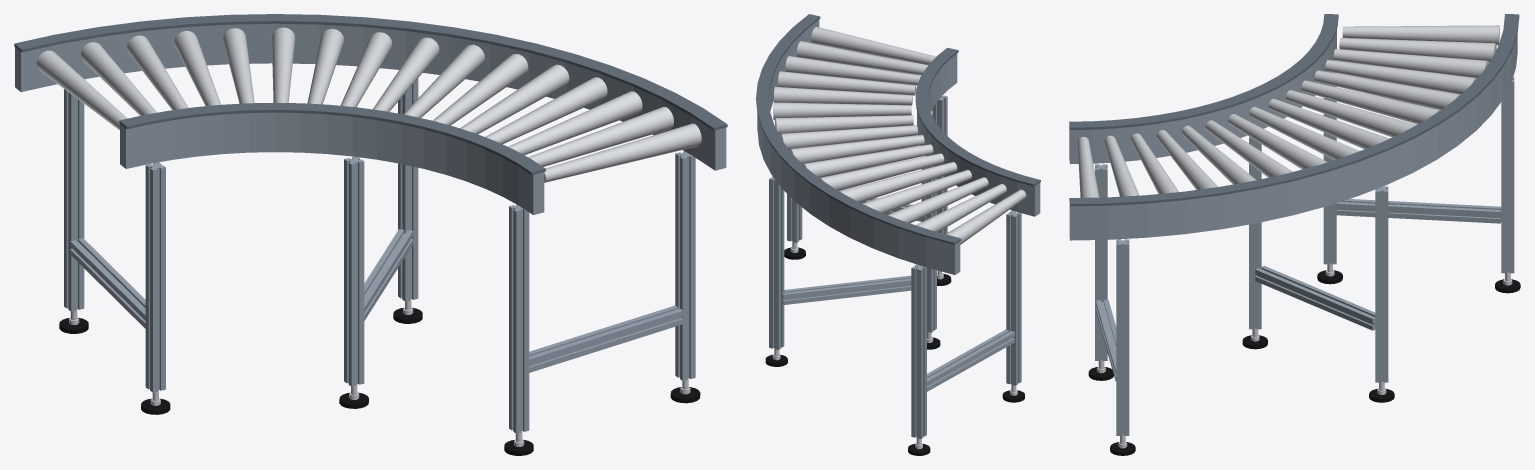
File: roller_curve_90.glb
3 views of the same model, side by side, from view 1: azimuth 30°, elevation 25°; view 2: azimuth 150°, elevation 25°; view 3: azimuth 270°, elevation 25° (orthographic). The views are drawn at different scales.
Visible parts, largest first — view 1: Conveyor_Frame_alu_anodised, Conveyor_Frame_alu_dark, Roller_16_steel_bright, Roller_15_steel_bright, Roller_14_steel_bright, Roller_13_steel_bright, Roller_12_steel_bright, Conveyor_Frame_rubber, Roller_11_steel_bright, Roller_01_steel_bright, Roller_10_steel_bright, Roller_02_steel_bright (+8 smaller); view 2: Conveyor_Frame_alu_anodised, Conveyor_Frame_alu_dark, Roller_10_steel_bright, Roller_13_steel_bright, Roller_11_steel_bright, Roller_12_steel_bright, Roller_14_steel_bright, Roller_09_steel_bright, Roller_15_steel_bright, Roller_08_steel_bright, Roller_16_steel_bright, Roller_07_steel_bright (+8 smaller); view 3: Conveyor_Frame_alu_anodised, Conveyor_Frame_alu_dark, Roller_01_steel_bright, Roller_02_steel_bright, Roller_03_steel_bright, Roller_04_steel_bright, Roller_05_steel_bright, Roller_06_steel_bright, Roller_07_steel_bright, Roller_08_steel_bright, Roller_09_steel_bright, Conveyor_Frame_rubber (+8 smaller).
Part boxes in pixels (left/top/right/bottom): Conveyor_Frame_alu_anodised: left=15, top=23, right=726, bottom=433; Conveyor_Frame_alu_dark: left=14, top=14, right=727, bottom=174; Roller_16_steel_bright: left=544, top=123, right=701, bottom=182; Roller_15_steel_bright: left=528, top=106, right=673, bottom=166; Roller_14_steel_bright: left=508, top=91, right=642, bottom=155; Roller_13_steel_bright: left=485, top=77, right=607, bottom=144; Roller_12_steel_bright: left=460, top=64, right=569, bottom=134; Conveyor_Frame_rubber: left=59, top=307, right=700, bottom=455; Roller_11_steel_bright: left=433, top=54, right=528, bottom=125; Roller_01_steel_bright: left=36, top=50, right=127, bottom=130; Roller_10_steel_bright: left=403, top=44, right=484, bottom=117; Roller_02_steel_bright: left=80, top=42, right=156, bottom=115; Conveyor_Frame_alu_anodised: left=757, top=20, right=1040, bottom=438; Conveyor_Frame_alu_dark: left=756, top=14, right=1040, bottom=244; Roller_10_steel_bright: left=774, top=115, right=913, bottom=135; Roller_13_steel_bright: left=778, top=71, right=916, bottom=95; Roller_11_steel_bright: left=773, top=102, right=911, bottom=120; Roller_12_steel_bright: left=774, top=86, right=912, bottom=105; Roller_14_steel_bright: left=785, top=56, right=921, bottom=85; Roller_09_steel_bright: left=780, top=125, right=917, bottom=149; Roller_15_steel_bright: left=796, top=41, right=927, bottom=75; Roller_08_steel_bright: left=789, top=135, right=924, bottom=163; Roller_16_steel_bright: left=811, top=27, right=936, bottom=65; Roller_07_steel_bright: left=803, top=144, right=933, bottom=177; Conveyor_Frame_alu_anodised: left=1069, top=29, right=1517, bottom=435; Conveyor_Frame_alu_dark: left=1069, top=14, right=1519, bottom=206; Roller_01_steel_bright: left=1342, top=25, right=1499, bottom=45; Roller_02_steel_bright: left=1339, top=38, right=1496, bottom=62; Roller_03_steel_bright: left=1333, top=49, right=1488, bottom=78; Roller_04_steel_bright: left=1325, top=60, right=1476, bottom=94; Roller_05_steel_bright: left=1314, top=70, right=1460, bottom=109; Roller_06_steel_bright: left=1301, top=80, right=1440, bottom=124; Roller_07_steel_bright: left=1286, top=90, right=1416, bottom=137; Roller_08_steel_bright: left=1268, top=98, right=1389, bottom=149; Roller_09_steel_bright: left=1249, top=107, right=1359, bottom=159; Conveyor_Frame_rubber: left=1088, top=270, right=1520, bottom=455.
Size of the model in its own units: 1.41 by 0.868 by 1.41.
